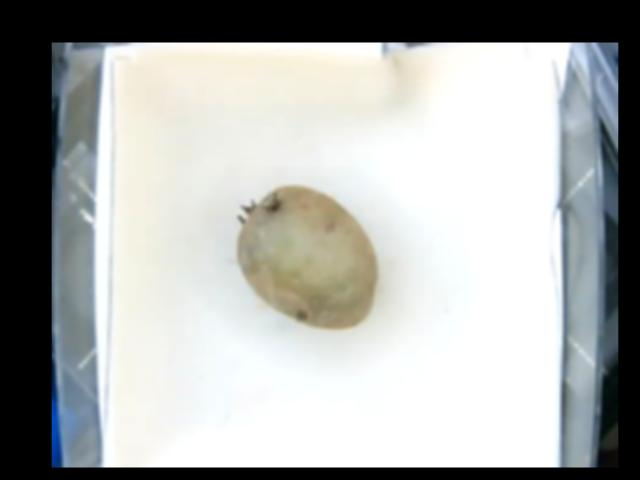Potato: (236, 184, 376, 326)
